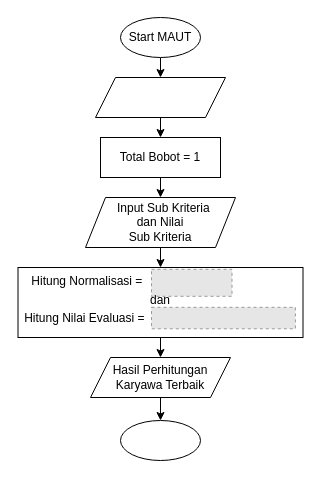
This 320x478 diagram has some shape labels left out. Grey dashed boxes stand in for pictures. Each missing label, with the centre of its shape:
End: pixel 160 440
Input Kriteria dan Bobot Kriteria: pixel 160 97
